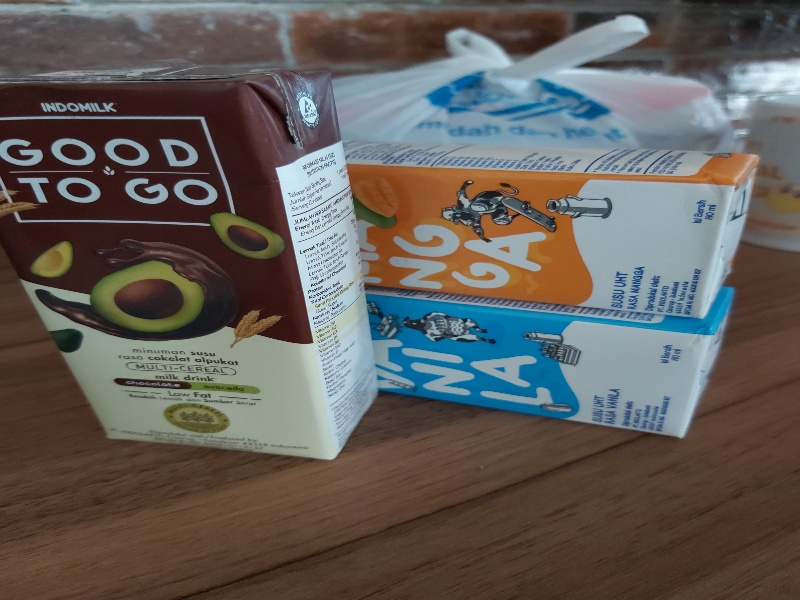cokelat: (1, 67, 380, 460)
mangga: (339, 132, 760, 319)
vanilla: (362, 287, 736, 439)
